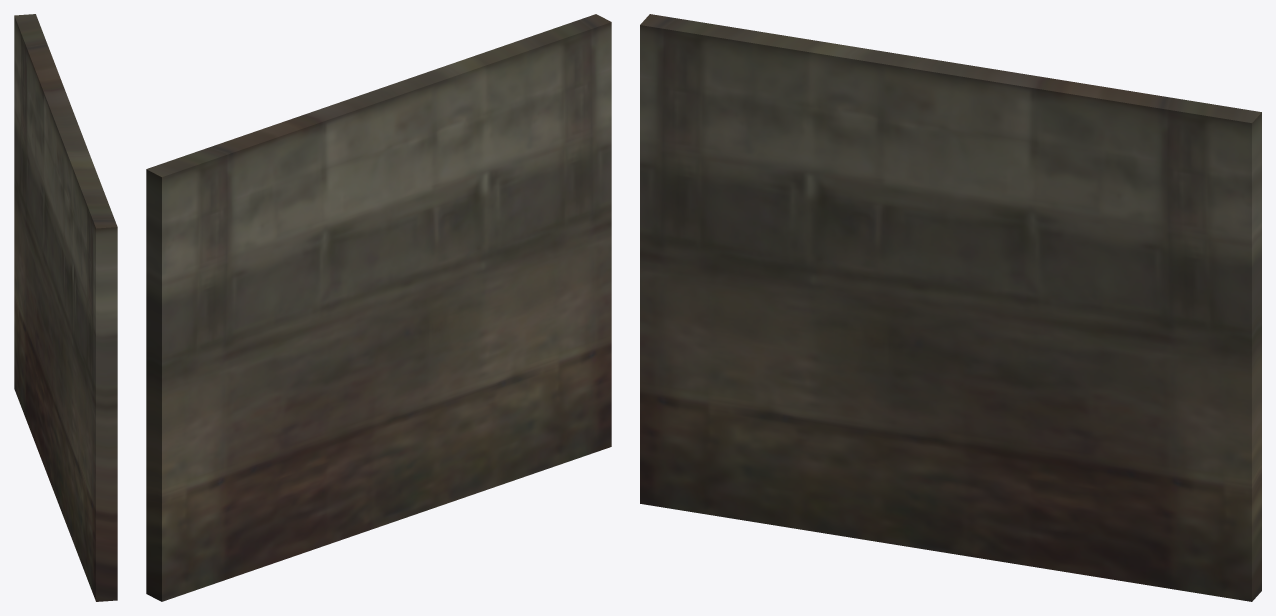
3 renders of one model, left to right at view 1: azimuth 30°, elevation 25°; view 2: azimuth 150°, elevation 25°; view 3: azimuth 270°, elevation 25°, orthographic. The views are drawn at different scales.
Visible parts, largest first — view 1: H1_F1_W5; view 2: H1_F1_W5; view 3: H1_F1_W5.
Part boxes in pixels (left/top/right/bottom): H1_F1_W5: left=14, top=14, right=117, bottom=601; H1_F1_W5: left=146, top=14, right=611, bottom=601; H1_F1_W5: left=640, top=14, right=1261, bottom=601.
Size of the model in its own units: 4.75 by 9.7 by 11.42.
1 material, 1 textured.
